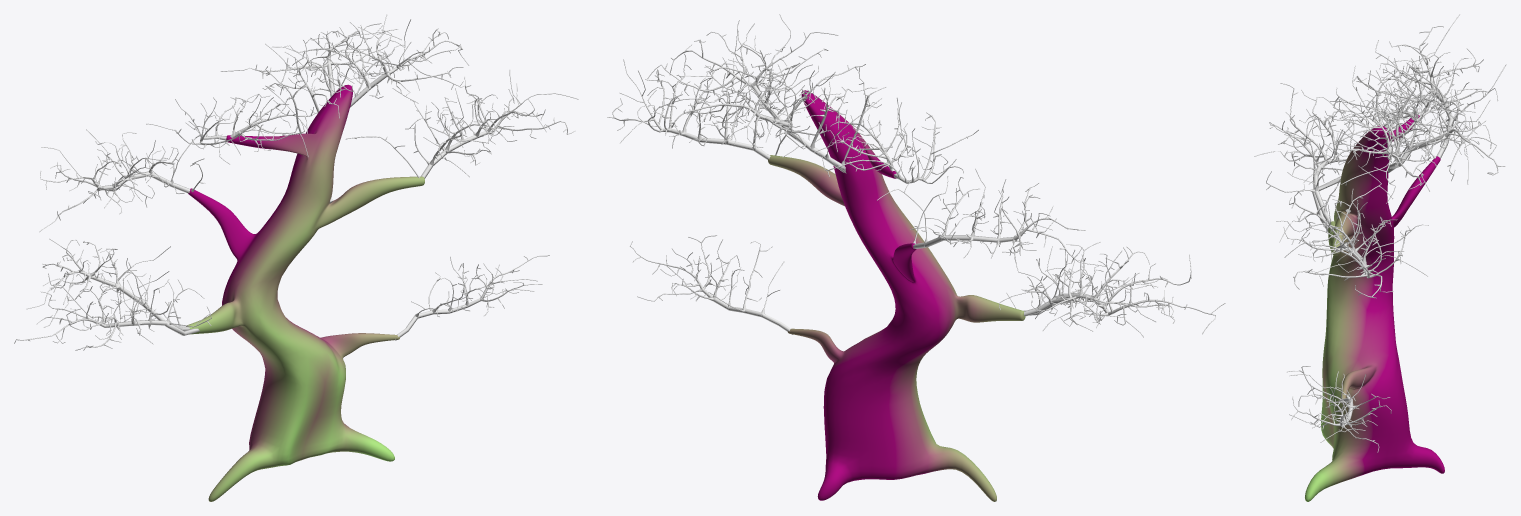
The picture shows the model from 3 angles, left to right: view 1: azimuth 30°, elevation 25°; view 2: azimuth 150°, elevation 25°; view 3: azimuth 270°, elevation 25°; orthographic projection. The views are drawn at different scales.
Visible parts, largest first — view 1: Continuous aged trunk and primary branches, Terminal twig hierarchy; view 2: Continuous aged trunk and primary branches, Terminal twig hierarchy; view 3: Continuous aged trunk and primary branches, Terminal twig hierarchy.
Part boxes in pixels (box(x1,y1,x2,y2)): Continuous aged trunk and primary branches: box(186, 84, 424, 501); Terminal twig hierarchy: box(14, 14, 578, 350); Continuous aged trunk and primary branches: box(768, 90, 1025, 501); Terminal twig hierarchy: box(607, 14, 1225, 337); Continuous aged trunk and primary branches: box(1305, 114, 1444, 501); Terminal twig hierarchy: box(1254, 14, 1506, 452).
Bounding box in the file's own units: 2.71 × 1.92 × 1.01.
